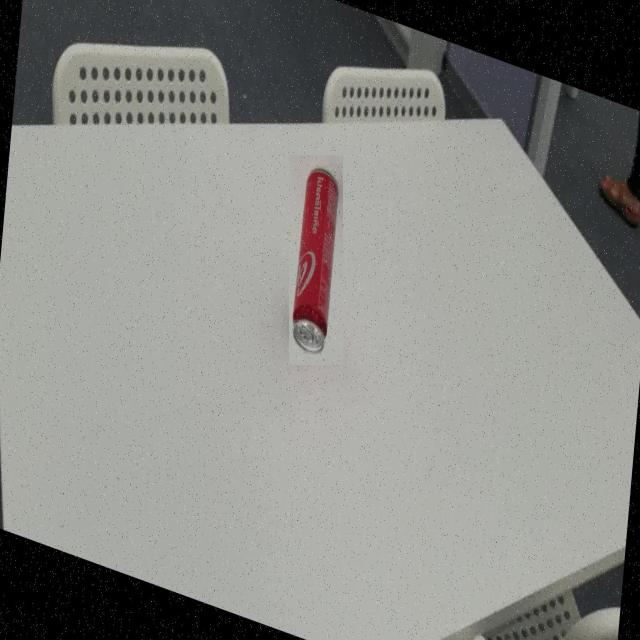coca-cola: (289, 155, 343, 365)
